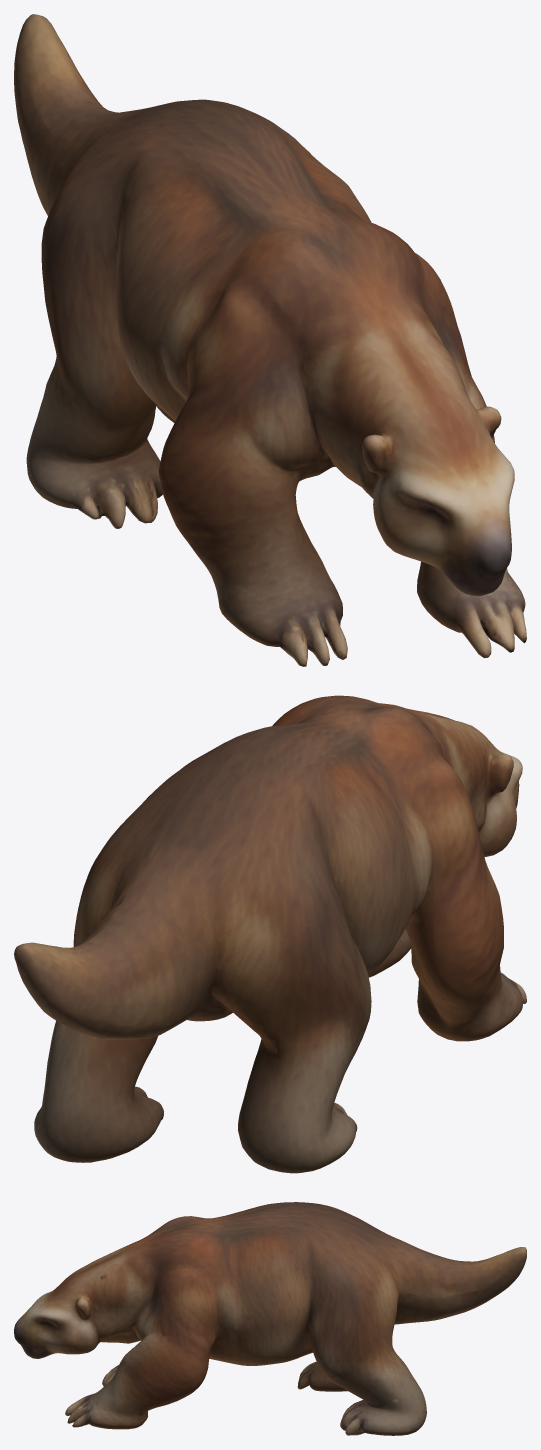
3 views of the same model, one above another, from view 1: azimuth 30°, elevation 25°; view 2: azimuth 150°, elevation 25°; view 3: azimuth 270°, elevation 25° (orthographic). The views are drawn at different scales.
Visible parts, largest first — view 1: world; view 2: world; view 3: world.
Boxes of the visible parts, x1,y1,x2,y2 form: world: [14, 14, 526, 666]; world: [14, 695, 526, 1173]; world: [14, 1202, 526, 1435].
Bounding box in the file's own units: 1.11 × 1.39 × 3.2.
1 material, 1 textured.
